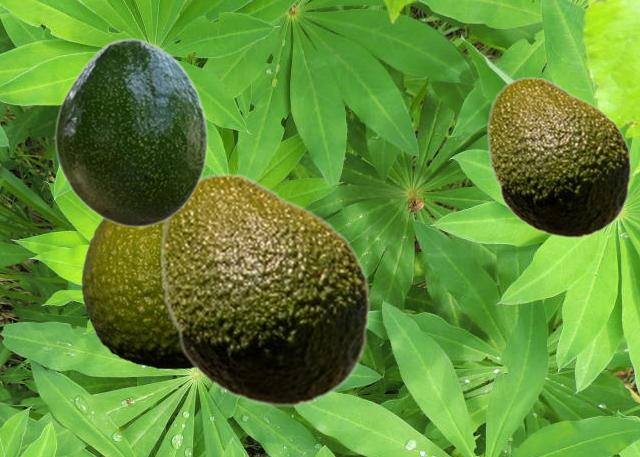avocado: (159, 172, 370, 407), (54, 38, 207, 227), (486, 76, 631, 238), (81, 218, 193, 368)
